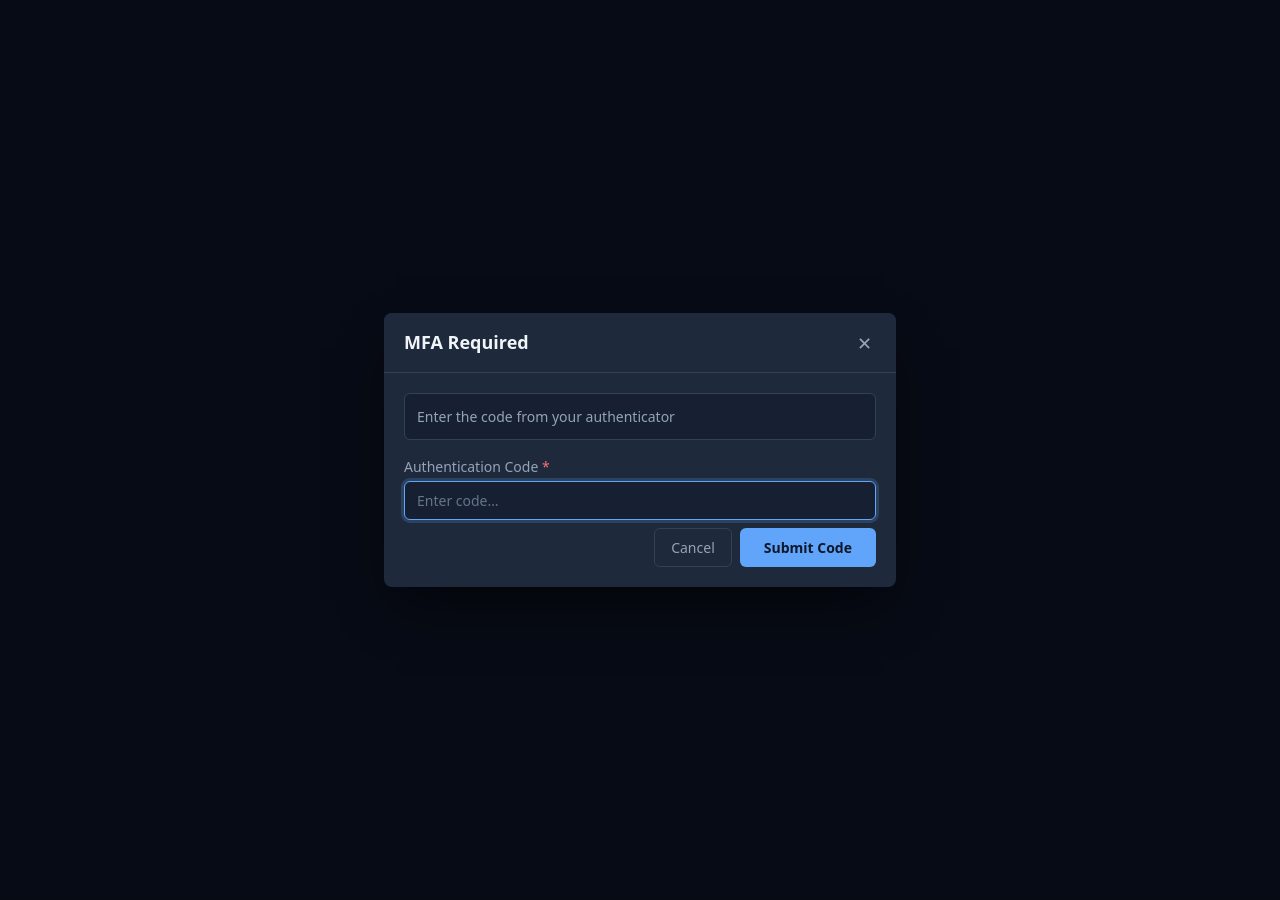
MfaModal › interactions › clears validation error when user types
Trigger validation error
Click the button "Submit Code". click: click(808, 548)
box: [740,528,876,567]
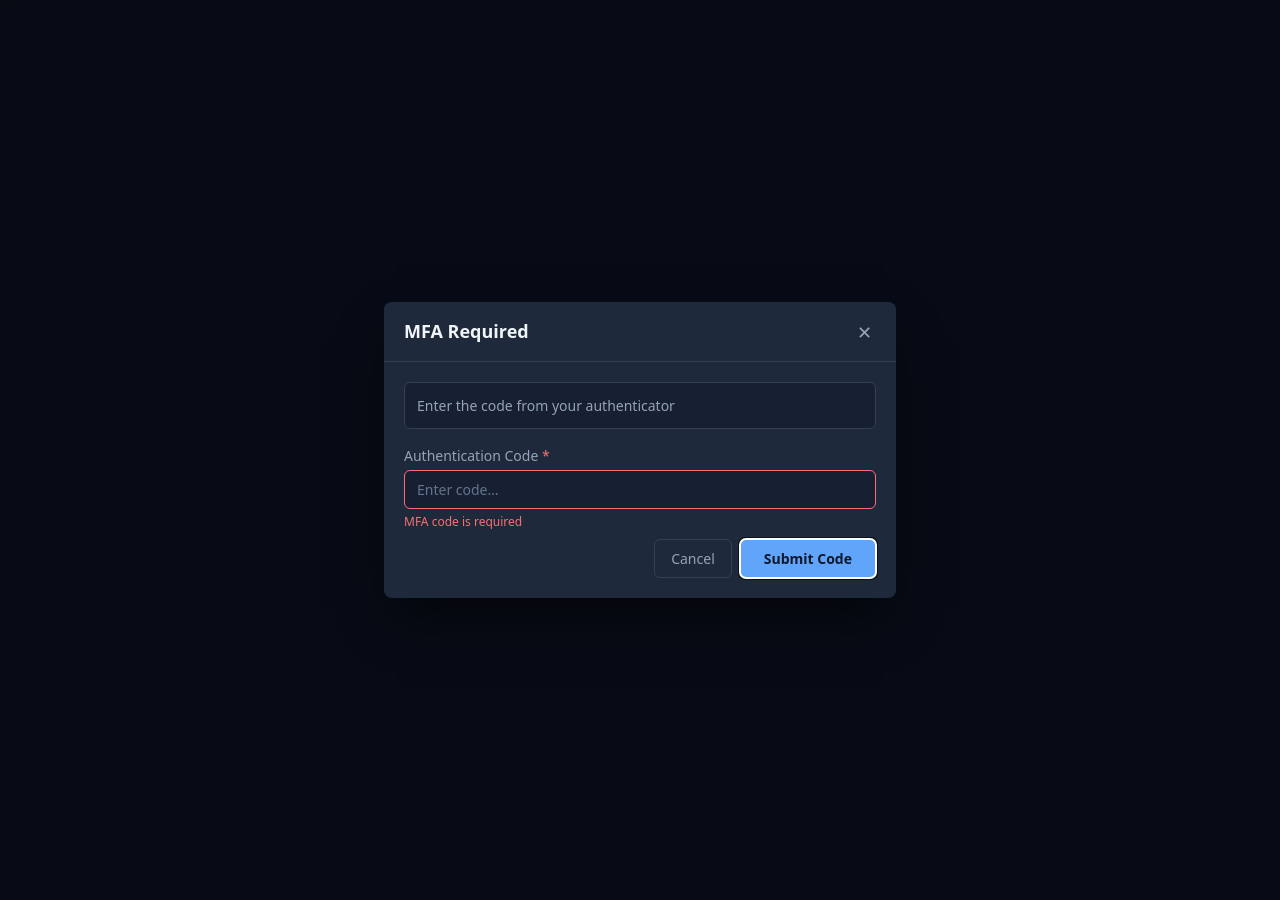
Check: the message "MFA code is required" is shown, box [404,513,522,530]
Type to clear it
Type "1" into the field labelled "Authentication Code *". click: (640, 490)
box: [404,470,876,509]
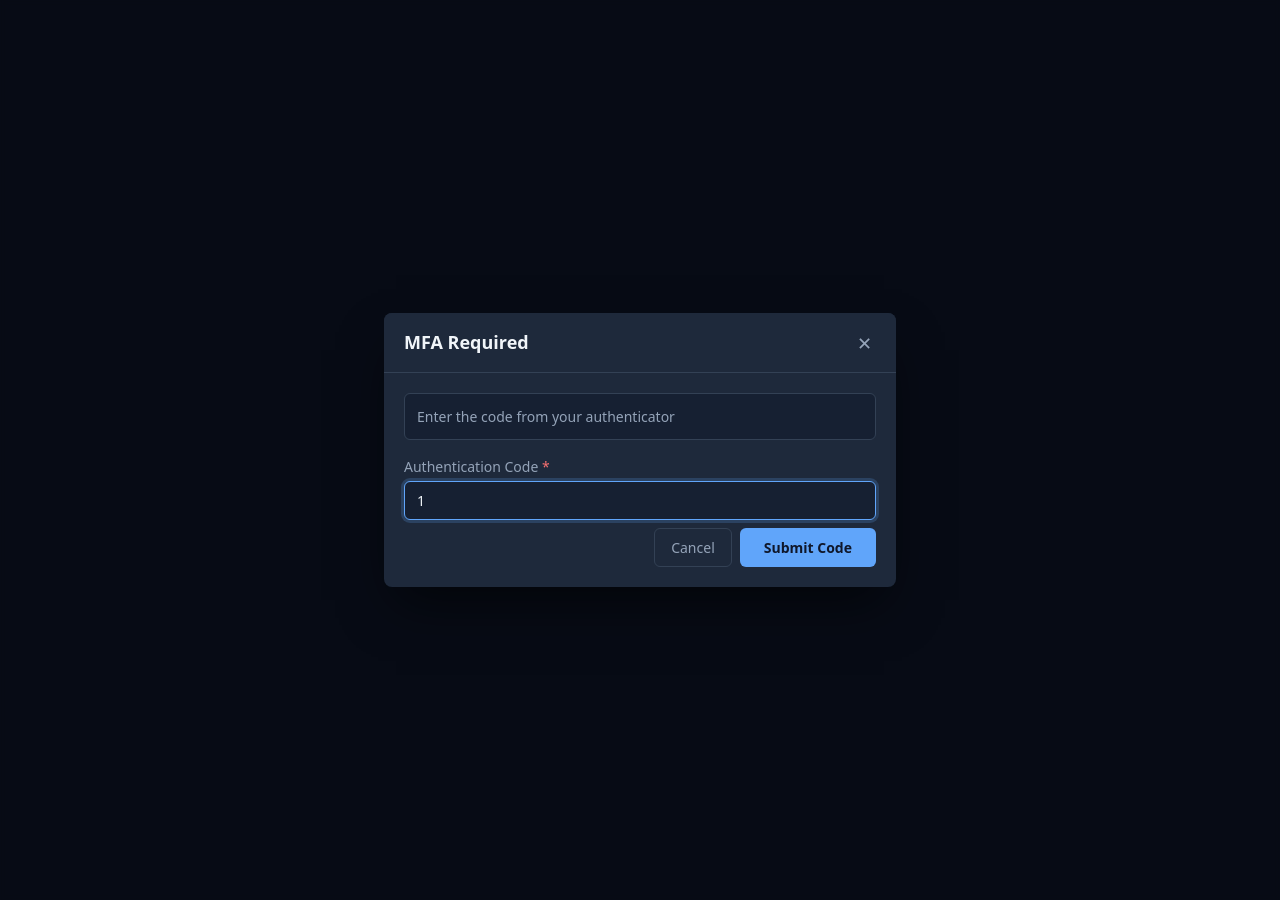
Check: the message "MFA code is required" is gone
